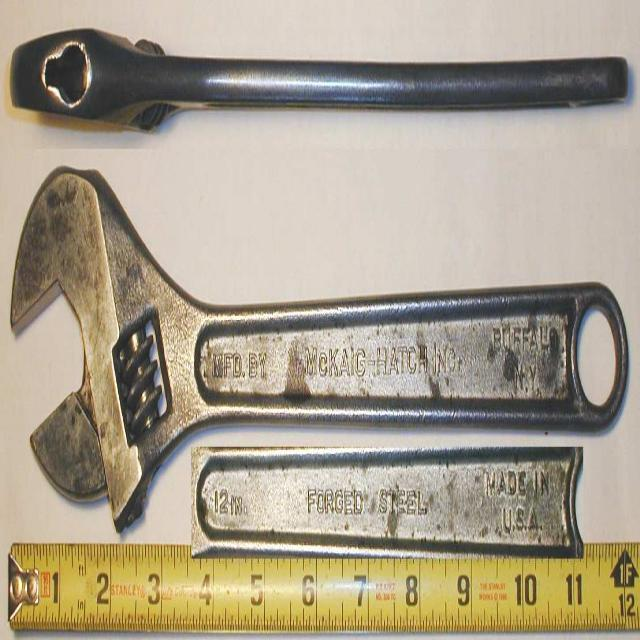wrench: (6, 157, 633, 539), (3, 18, 636, 150)
